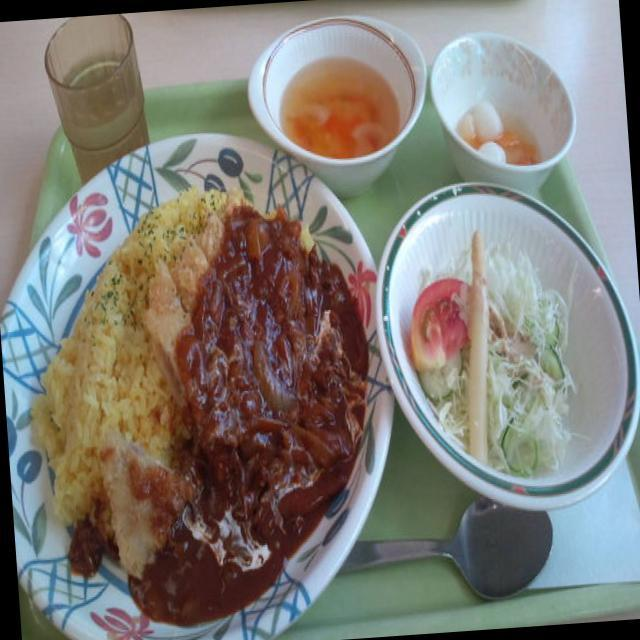Green Salad: (412, 233, 582, 462)
